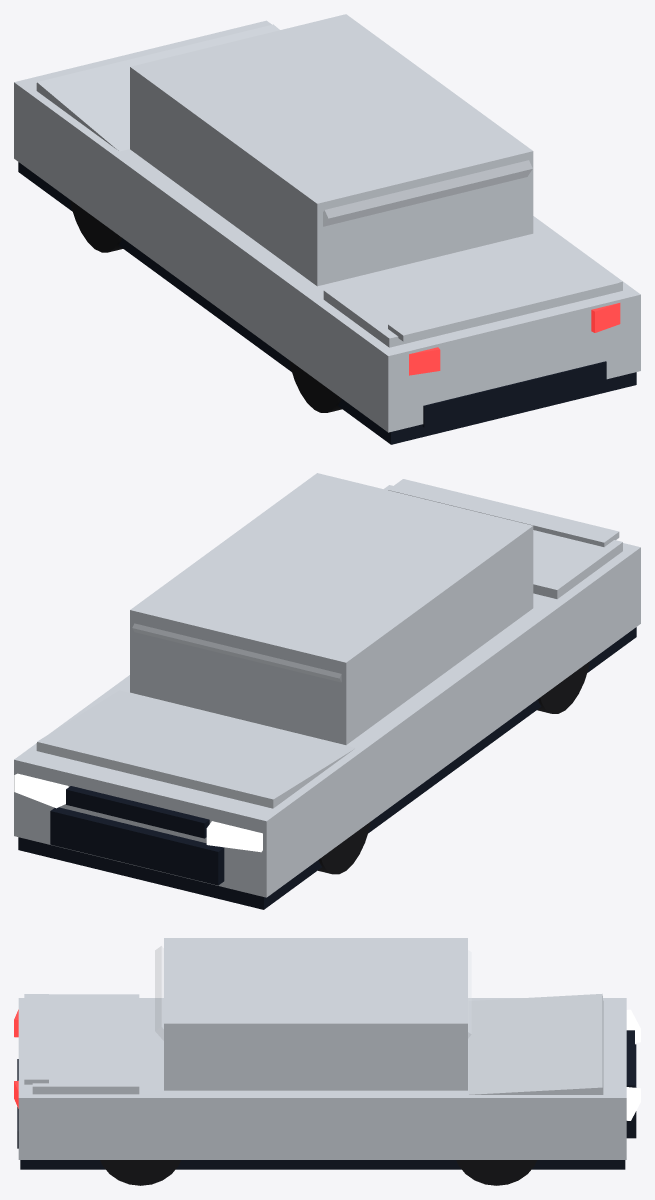
Rendered from onix.glb.
The picture shows the model from 3 angles, top to bottom: view 1: azimuth 30°, elevation 25°; view 2: azimuth 150°, elevation 25°; view 3: azimuth 270°, elevation 25°; orthographic projection. The views are drawn at different scales.
Parts seen in each view (by area): view 1: body_cabin, body, body_trunk, body_hood, object 1, object 12, object 15, glass, car-wheel.Bk.L, car-wheel.Ft.L, taillight.L, taillight.R; view 2: body_cabin, body, body_hood, object 5, object 1, body_trunk, object 12, object 4, glass, headlight.L, car-wheel.Ft.L, car-wheel.Bk.L (+1 smaller); view 3: body, body_cabin, body_hood, body_trunk, object 1, object 12, car-wheel.Ft.R, car-wheel.Bk.R, glass, object 4, headlight.R.
Boxes of the visible parts, left/top/right/bottom form: body_cabin: left=130, top=14, right=533, bottom=286; body: left=14, top=20, right=640, bottom=432; body_trunk: left=323, top=233, right=622, bottom=347; body_hood: left=36, top=24, right=279, bottom=151; object 1: left=18, top=162, right=636, bottom=444; object 12: left=388, top=272, right=619, bottom=341; object 15: left=422, top=361, right=606, bottom=427; glass: left=323, top=160, right=532, bottom=226; car-wheel.Bk.L: left=289, top=360, right=341, bottom=412; car-wheel.Ft.L: left=70, top=200, right=122, bottom=252; taillight.L: left=409, top=347, right=440, bottom=375; taillight.R: left=591, top=303, right=620, bottom=332; body_cabin: left=130, top=473, right=533, bottom=744; body: left=14, top=543, right=640, bottom=897; body_hood: left=36, top=690, right=355, bottom=808; object 5: left=50, top=807, right=224, bottom=885; object 1: left=18, top=627, right=636, bottom=909; body_trunk: left=384, top=485, right=622, bottom=598; object 12: left=388, top=479, right=619, bottom=546; object 4: left=66, top=786, right=209, bottom=838; glass: left=132, top=624, right=341, bottom=681; headlight.L: left=206, top=821, right=262, bottom=852; car-wheel.Ft.L: left=318, top=821, right=370, bottom=874; car-wheel.Bk.L: left=537, top=661, right=589, bottom=713; body: left=18, top=998, right=626, bottom=1159; body_cabin: left=164, top=938, right=467, bottom=1090; body_hood: left=468, top=993, right=603, bottom=1094; body_trunk: left=32, top=994, right=139, bottom=1094; object 1: left=20, top=1160, right=625, bottom=1169; object 12: left=24, top=994, right=48, bottom=1084; car-wheel.Ft.R: left=456, top=1160, right=537, bottom=1185; car-wheel.Bk.R: left=100, top=1160, right=180, bottom=1185; glass: left=155, top=946, right=163, bottom=1040; object 4: left=626, top=1030, right=634, bottom=1087; headlight.R: left=626, top=1087, right=640, bottom=1120.
Size of the model in its own units: 1.73 by 1.25 by 4.58.
